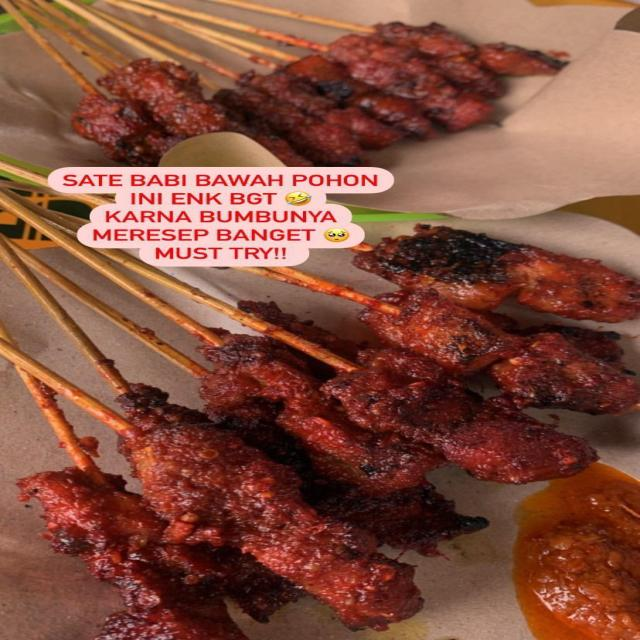Sate: (0, 238, 615, 639), (0, 0, 618, 150)
